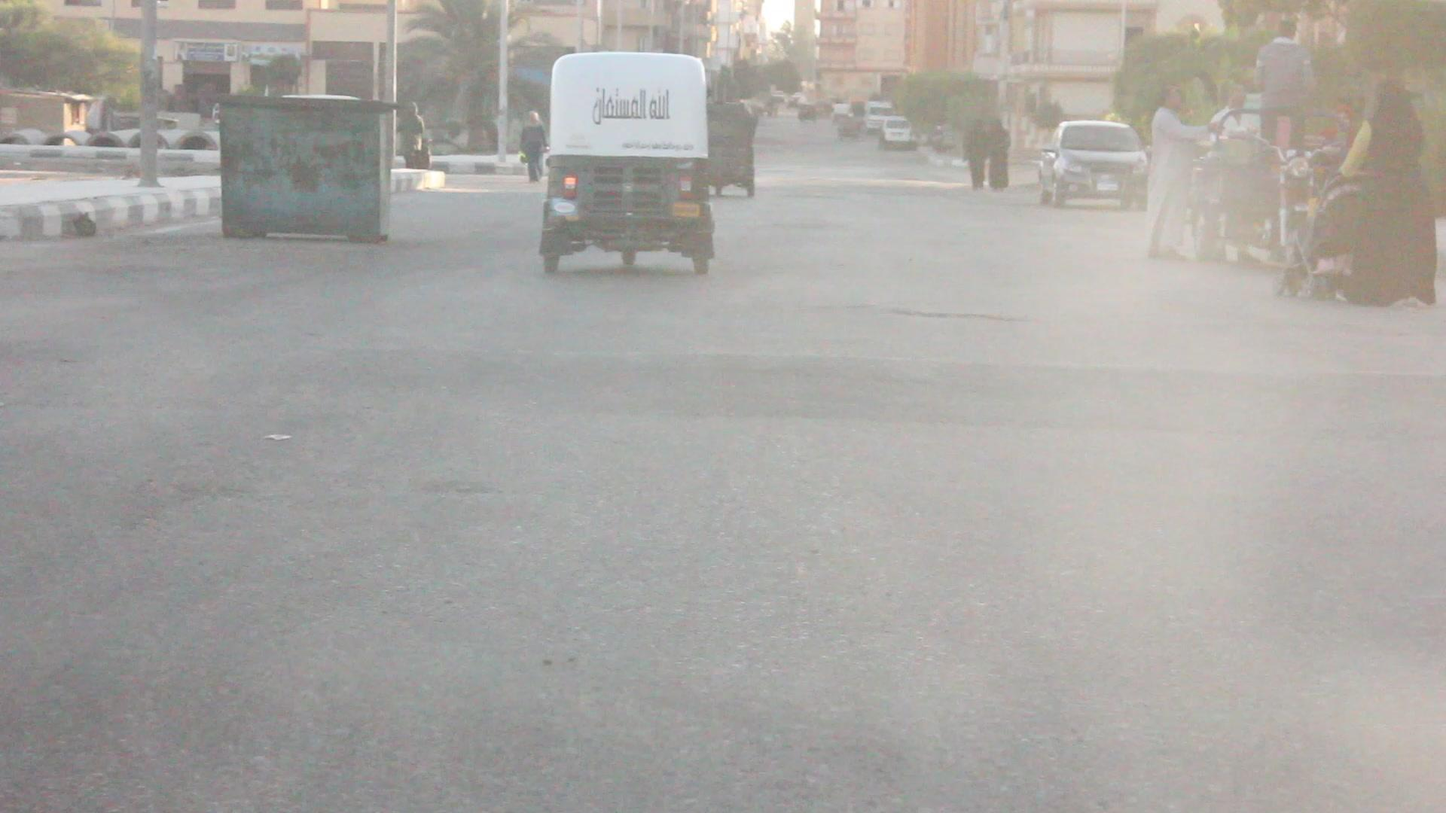Bump: (0, 329, 1435, 425)
